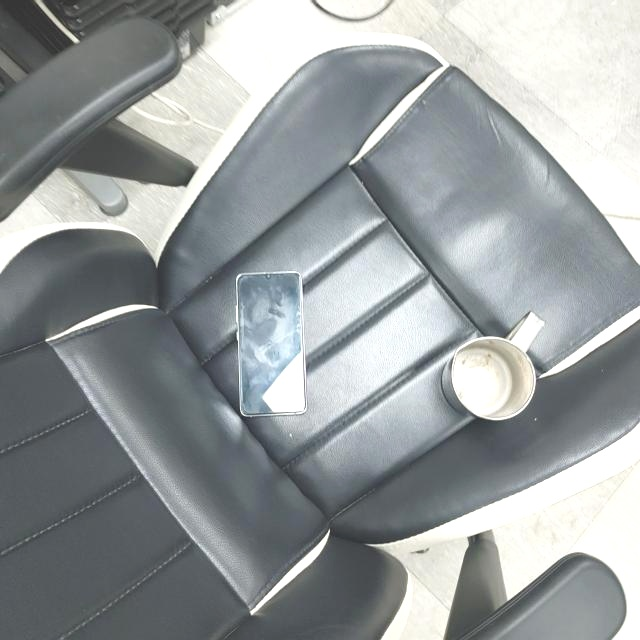cup: (440, 308, 546, 424)
phone: (237, 271, 307, 418)
